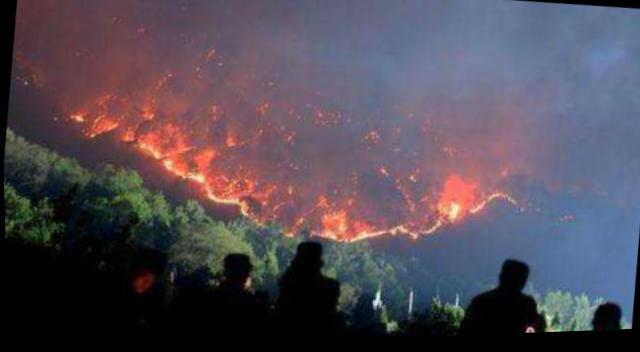fire: (55, 62, 516, 282)
